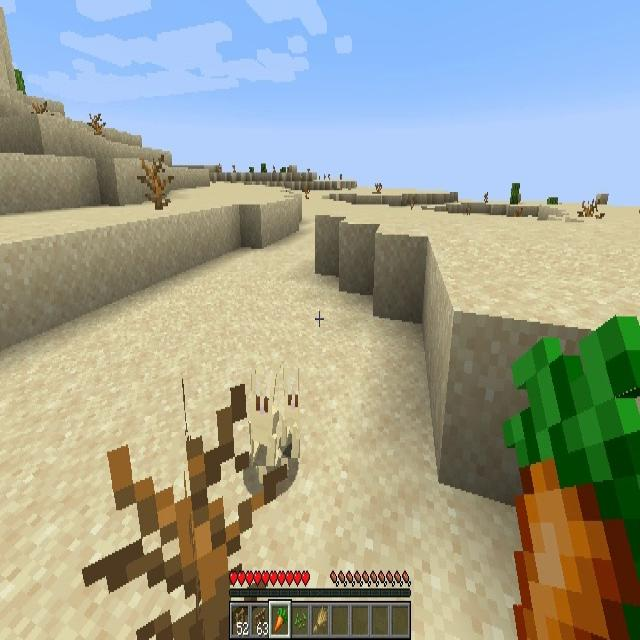rabbit: (251, 374, 281, 466), (279, 368, 300, 458)
